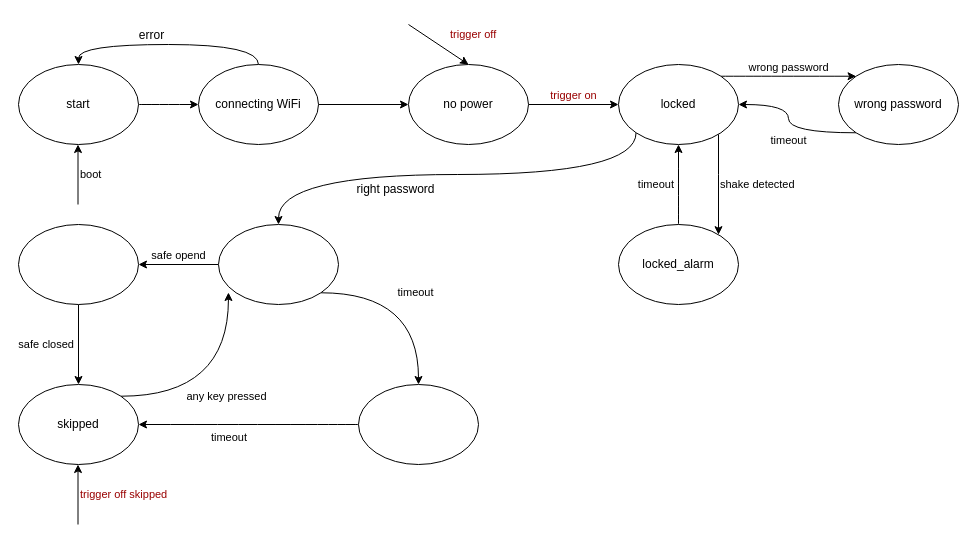
Image size: 976x550. Some labels were removed from this diagram. The shapes that lost their labels are listed below. From the top down, each one's centre as x and y in pixels, then its label:
pixel 78 264: unlocked
pixel 278 264: open lock
pixel 418 424: reopen delay
